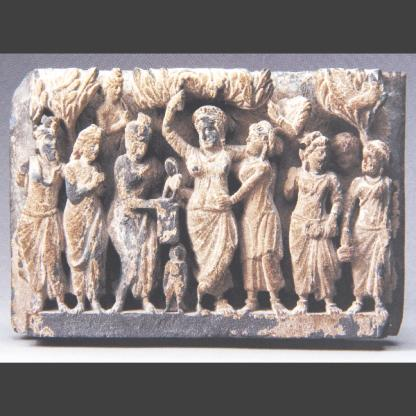buddha-standing: (163, 92, 245, 312)
